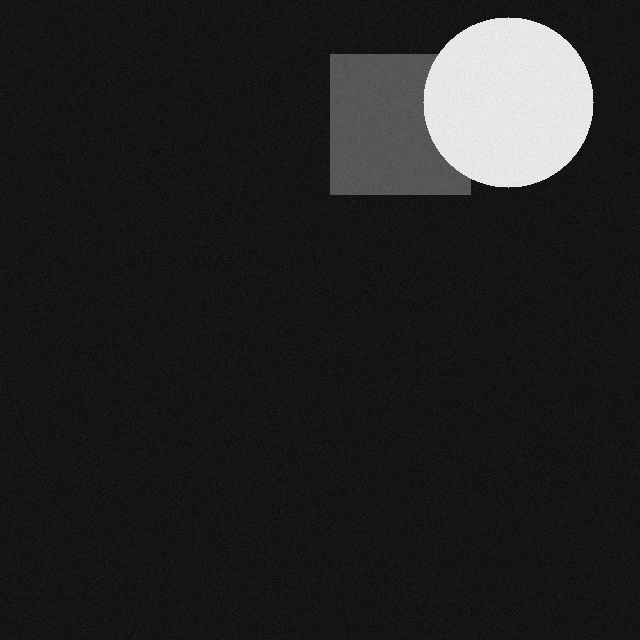circle: (413, 12, 583, 182)
square: (320, 49, 460, 189)
